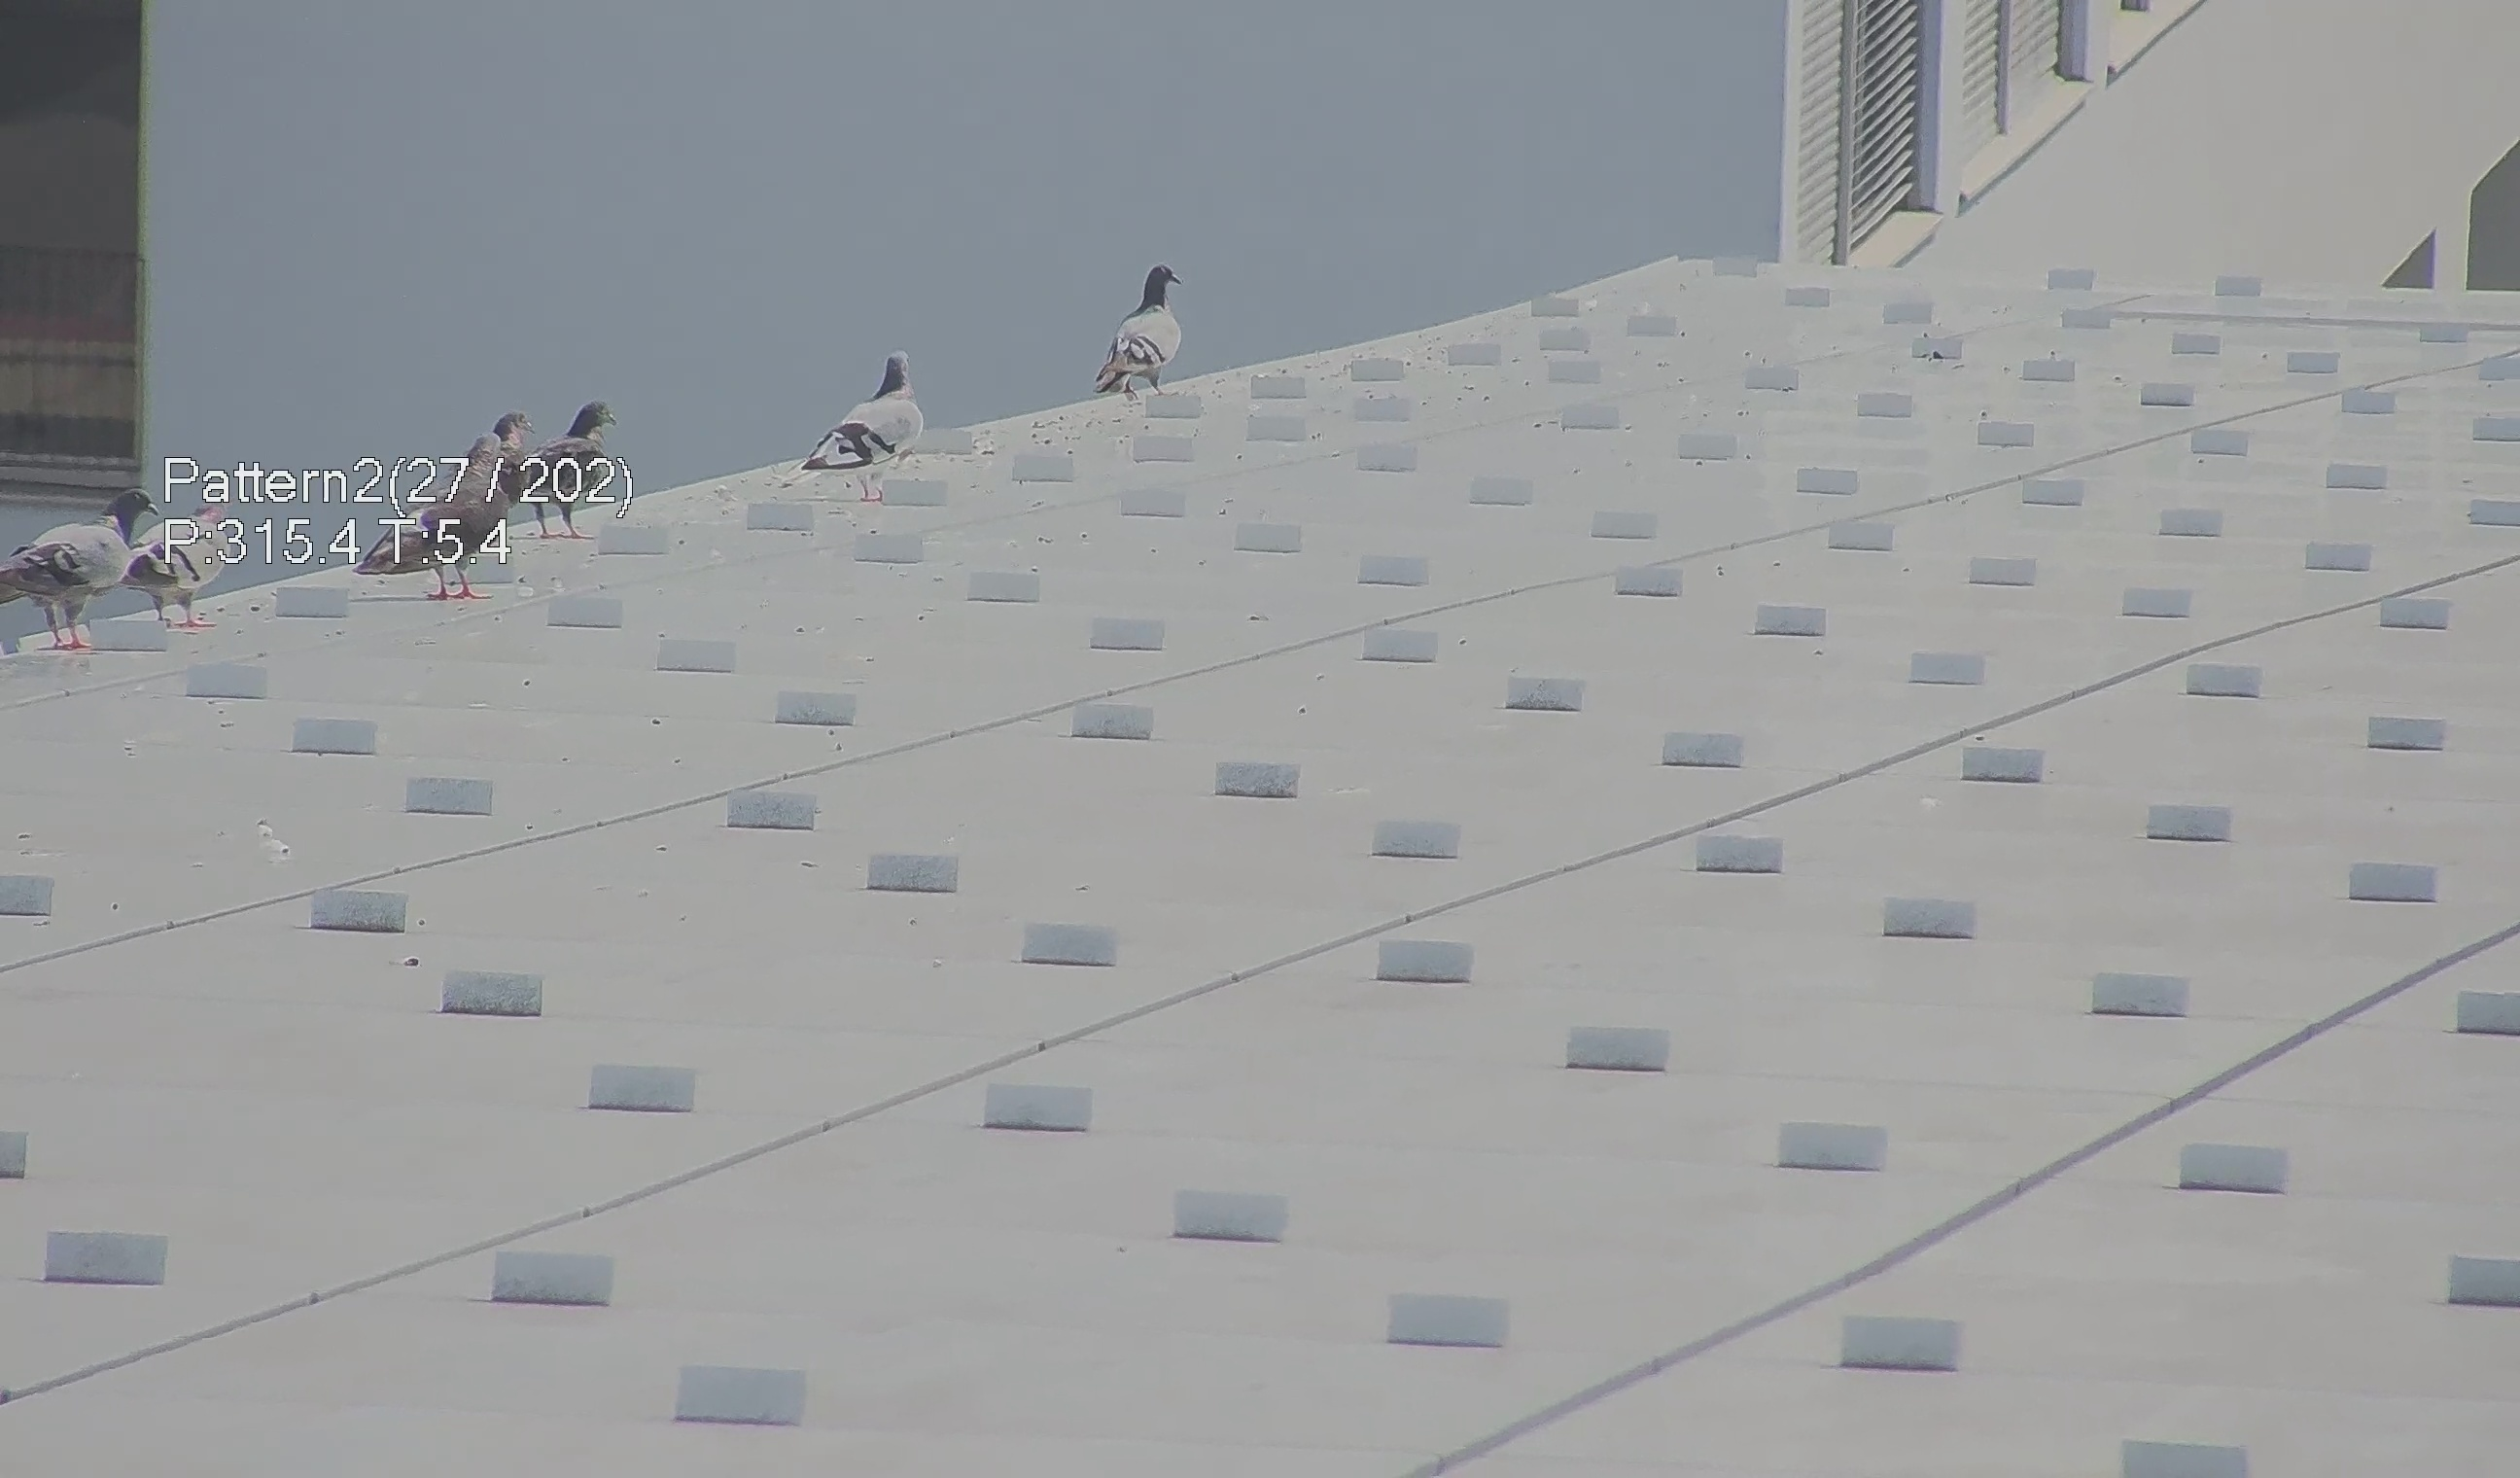Pigeon: (364, 394, 510, 598), (2, 465, 158, 653), (790, 345, 930, 491), (1074, 243, 1192, 406), (118, 500, 236, 637), (522, 405, 633, 542)
